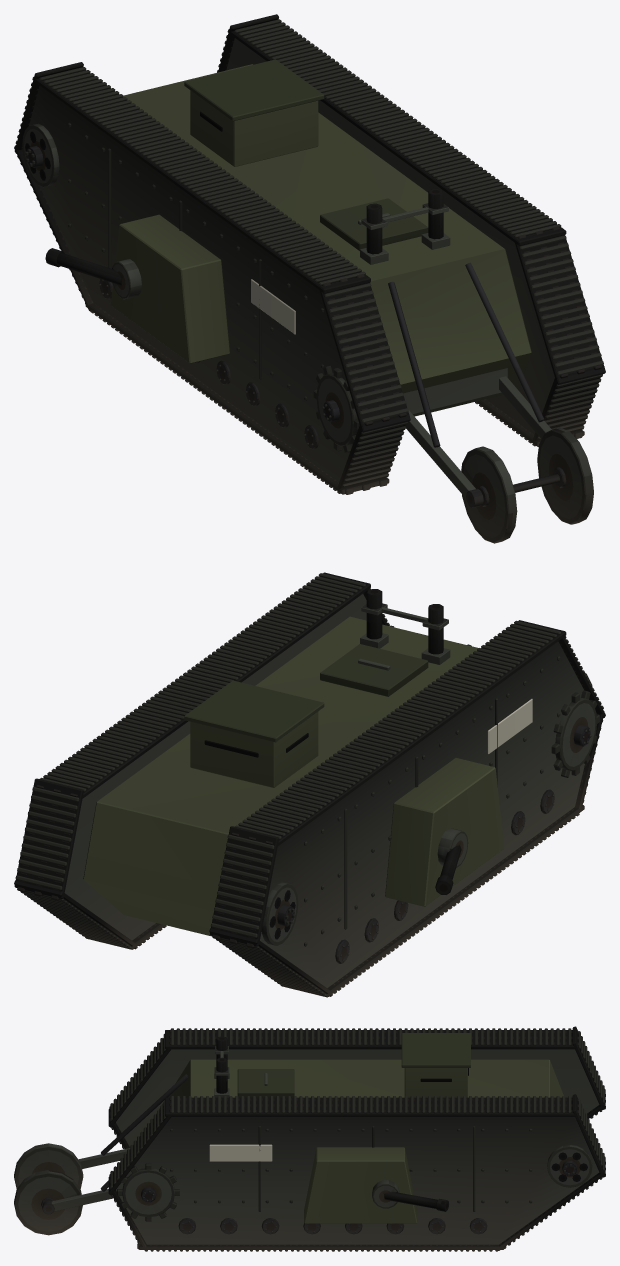
The model's file is tank.glb.
3 renders of one model, top to bottom at view 1: azimuth 30°, elevation 25°; view 2: azimuth 150°, elevation 25°; view 3: azimuth 270°, elevation 25°, orthographic. The views are drawn at different scales.
Parts seen in each view (by area): view 1: dark-hull-003, dark-frame-001, dark-track0-004, dark-cupola-021, dark-track1-005, dark-sponson-017, dark-track2-006, dark-track1-008, dark-track0-007, dark-tail-022, dark-track2-009, dark-frame-002 (+8 smaller); view 2: dark-frame-001, dark-hull-003, dark-cupola-021, dark-track0-004, dark-track1-005, dark-sponson-017, dark-track2-006, dark-track0-007, dark-track1-008, dark-track2-009, dark-frame-002, dark-wheel-010 (+6 smaller); view 3: dark-frame-002, dark-hull-003, dark-track0-007, dark-sponson-019, dark-frame-001, dark-track1-008, dark-cupola-021, dark-track2-009, dark-track0-004, dark-track1-005, dark-track2-006, dark-wheel-024 (+8 smaller).
Part boxes in pixels (x1,y1,x2,y2): dark-hull-003: (123,64,531,416); dark-frame-001: (29,86,352,482); dark-track0-004: (16,70,410,494); dark-cupola-021: (184,59,428,250); dark-track1-005: (14,62,409,490); dark-sponson-017: (110,214,229,363); dark-track2-006: (14,67,406,489); dark-track1-008: (218,14,604,443); dark-track0-007: (217,22,605,446); dark-tail-022: (360,188,559,507); dark-track2-009: (220,19,602,441); dark-frame-002: (226,38,554,434); dark-frame-001: (260,641,596,988); dark-hull-003: (83,616,478,936); dark-cupola-021: (184,644,428,787); dark-track0-004: (212,624,605,997); dark-track1-005: (209,620,604,996); dark-sponson-017: (385,758,504,906); dark-track2-006: (210,621,603,994); dark-track0-007: (16,576,388,949); dark-track1-008: (14,572,389,949); dark-track2-009: (14,573,387,946); dark-frame-002: (64,594,366,940); dark-wheel-010: (551,690,599,777); dark-frame-002: (115,1117,599,1244); dark-hull-003: (156,1059,563,1114); dark-track0-007: (108,1096,602,1251); dark-sponson-019: (304,1147,417,1223); dark-frame-001: (115,1049,599,1147); dark-track1-008: (109,1094,605,1251); dark-cupola-021: (237,1033,470,1097); dark-track2-009: (112,1096,605,1251); dark-track0-004: (108,1028,602,1148); dark-track1-005: (109,1026,605,1147); dark-track2-006: (112,1028,605,1148); dark-wheel-024: (14,1170,82,1235).
Size of the model in its own units: 5.29 by 3.01 by 9.39.
